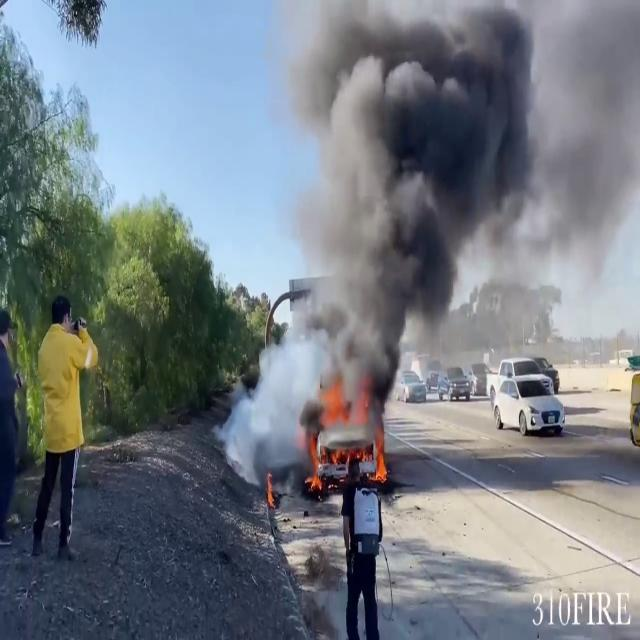Fire: (318, 380, 372, 432), (370, 429, 390, 487)
Smoke: (286, 0, 532, 395), (514, 1, 640, 360), (228, 306, 356, 488)
